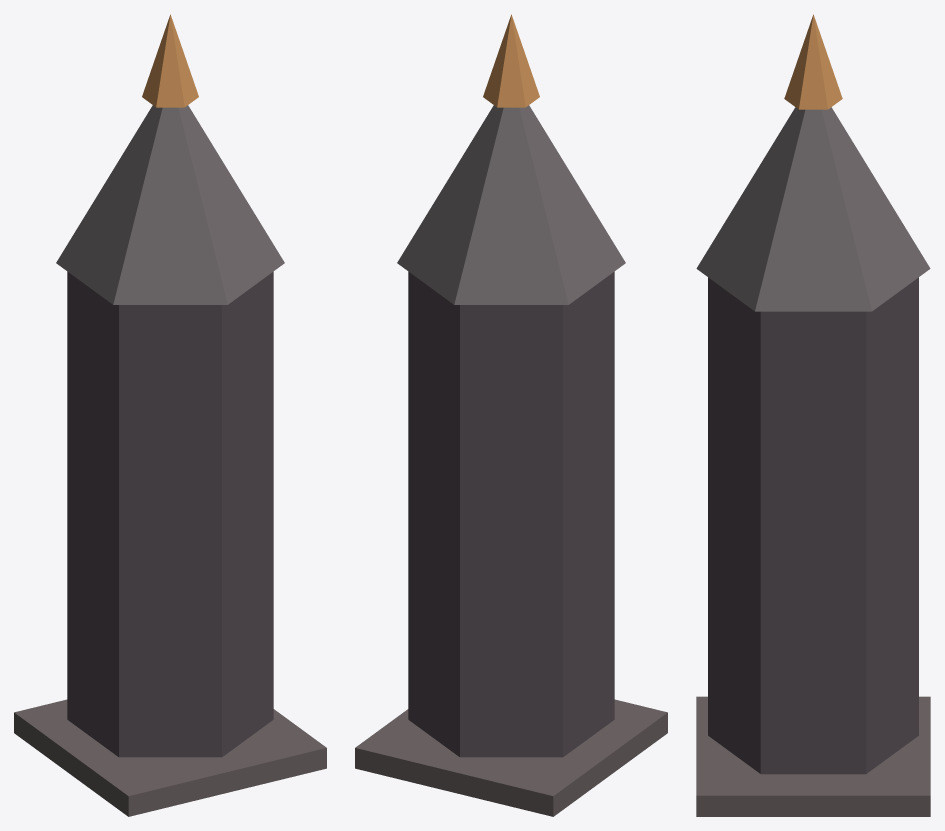
File: ember_flame_spire.glb
3 renders of one model, left to right at view 1: azimuth 30°, elevation 25°; view 2: azimuth 150°, elevation 25°; view 3: azimuth 270°, elevation 25°, orthographic. The views are drawn at different scales.
Visible parts, largest first — view 1: ember_flame_spire; view 2: ember_flame_spire; view 3: ember_flame_spire.
Boxes of the visible parts, bbox=[...] form: ember_flame_spire: bbox=[14, 14, 326, 816]; ember_flame_spire: bbox=[355, 14, 667, 816]; ember_flame_spire: bbox=[696, 14, 930, 816].
Bounding box in the file's own units: 20 × 71 × 20.
